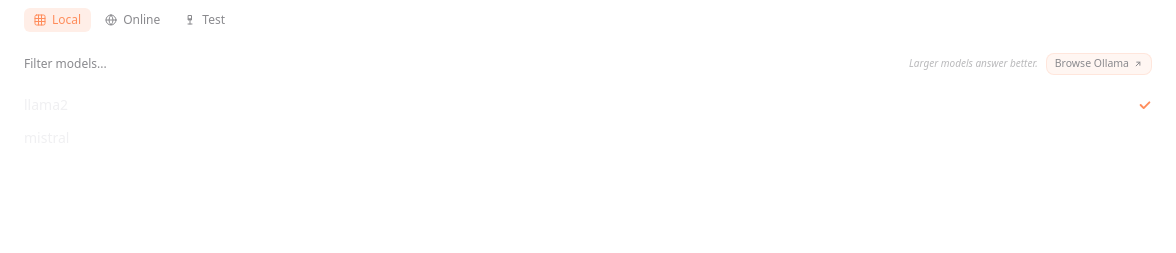
Test case: ProviderPickerPanel › online tab › shows Connecting state during connection
Click the button "Online": (133, 20) [95,8,170,32]
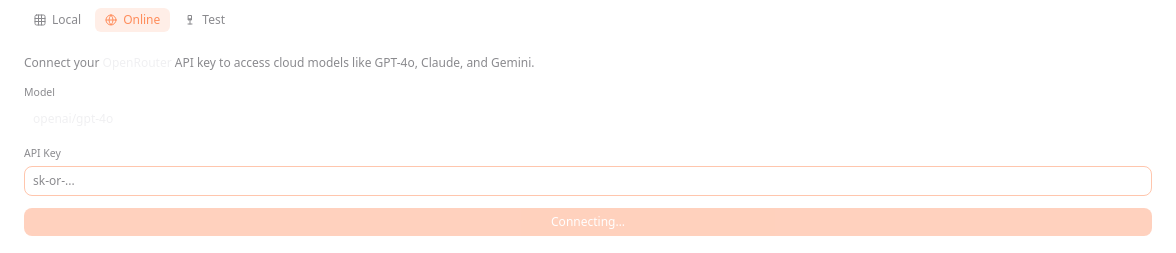
Result: the button "Connecting…" is shown at [24,208,1152,236]
